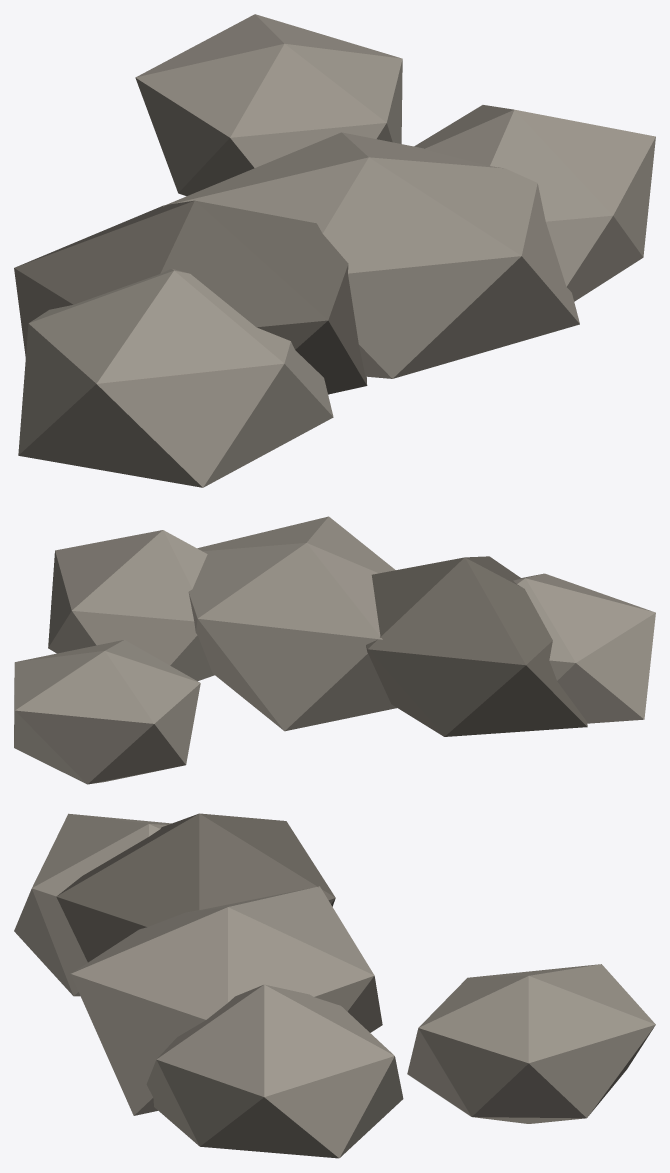
The model's file is HS_LP_Ground_Pebbles_03.fbx.
The picture shows the model from 3 angles, top to bottom: view 1: azimuth 30°, elevation 25°; view 2: azimuth 150°, elevation 25°; view 3: azimuth 270°, elevation 25°; orthographic projection. The views are drawn at different scales.
Visible parts, largest first — view 1: HS_LP_Ground_Pebbles_03; view 2: HS_LP_Ground_Pebbles_03; view 3: HS_LP_Ground_Pebbles_03.
Part boxes in pixels (<box>): HS_LP_Ground_Pebbles_03: <box>14,14,655,487</box>; HS_LP_Ground_Pebbles_03: <box>14,516,655,784</box>; HS_LP_Ground_Pebbles_03: <box>14,813,655,1158</box>.
Bounding box in the file's own units: 38.97 × 11.78 × 35.6.
